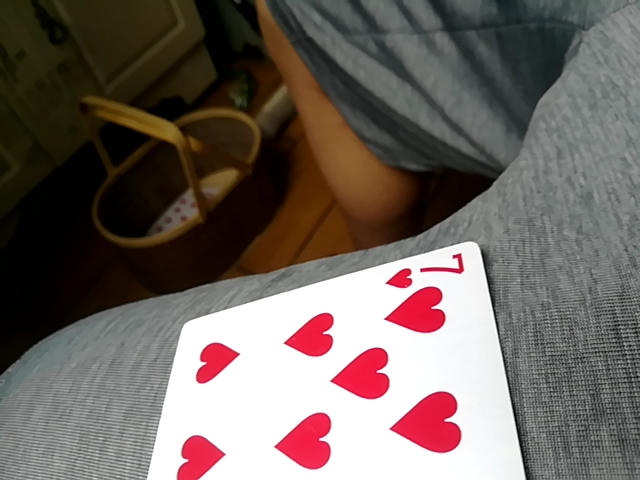hx 7: (150, 240, 522, 479)
